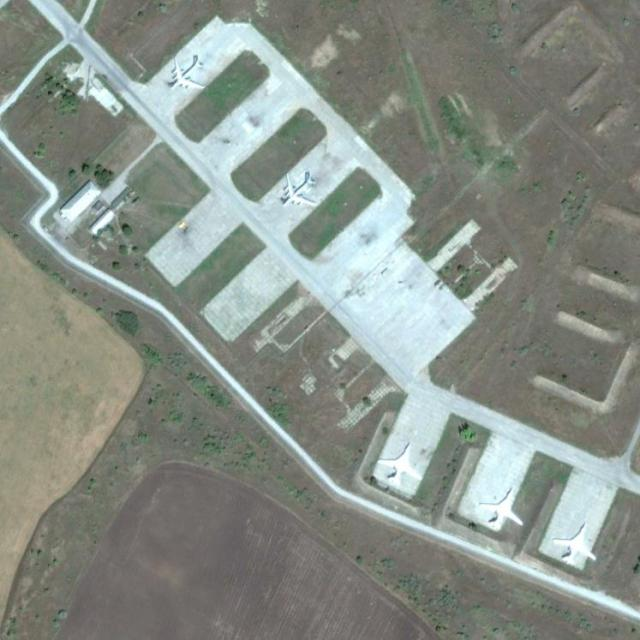fighter jet: (551, 517, 598, 572), (377, 441, 418, 489), (477, 485, 518, 530), (170, 54, 208, 96), (280, 172, 316, 209)
